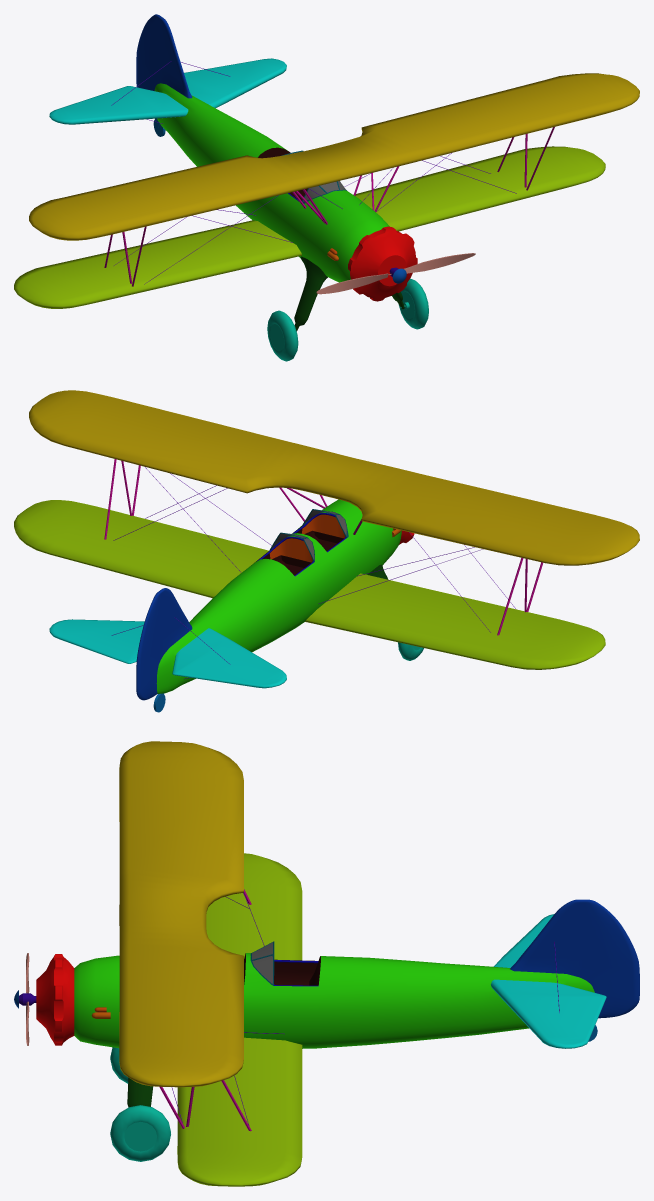
The model's file is Biplane.fbx.
The picture shows the model from 3 angles, top to bottom: view 1: azimuth 30°, elevation 25°; view 2: azimuth 150°, elevation 25°; view 3: azimuth 270°, elevation 25°; orthographic projection. The views are drawn at different scales.
Visible parts, largest first — view 1: Body, PropellerBlades; view 2: Body; view 3: Body.
Part boxes in pixels (x1=…): Body: x1=14, y1=14, x2=639, y2=361; PropellerBlades: x1=316, y1=253, x2=475, y2=294; Body: x1=14, y1=390, x2=639, y2=712; Body: x1=14, y1=741, x2=639, y2=1186.
Bounding box in the file's own units: 990 × 302 × 764.
